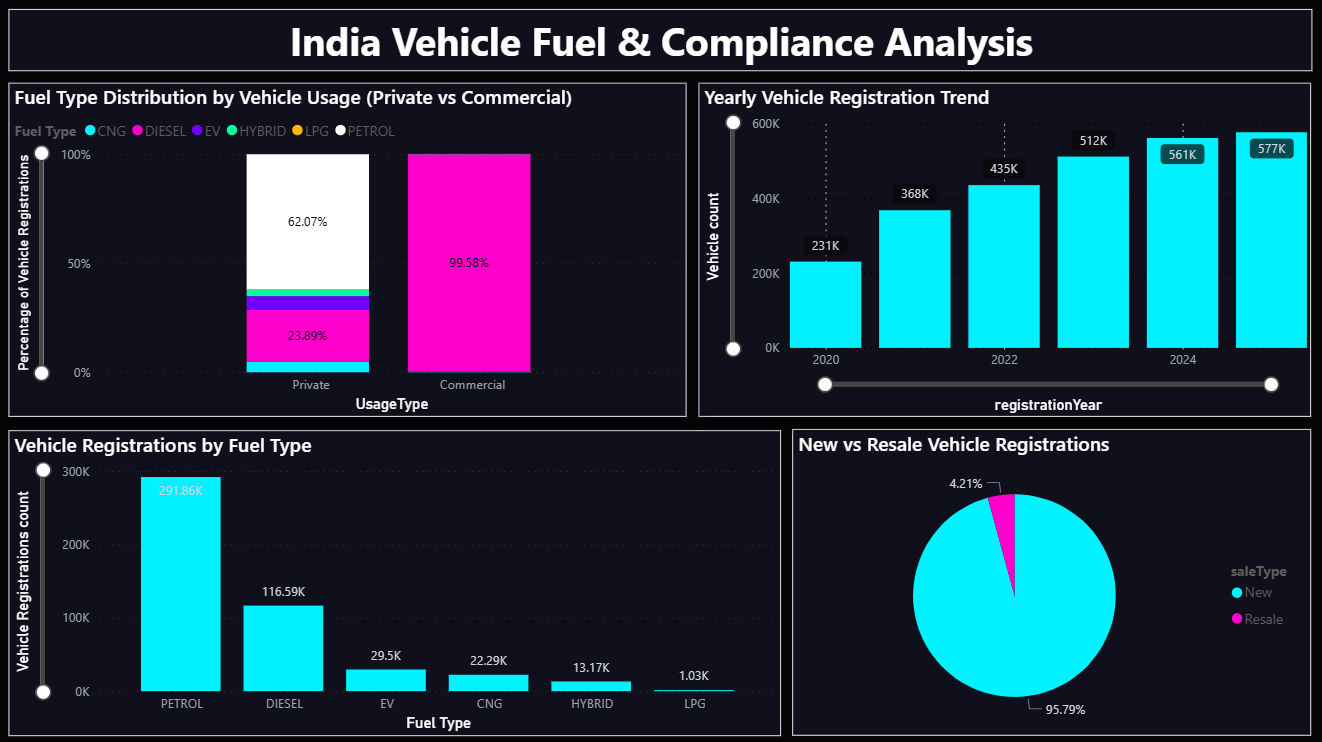

Layout of this report page (visuals, bound fields, positions):
{"tool":"powerbi","page":{"name":"India Vehicle Fuel & Compliance Analysis","canvas":[1280,720],"ordinal":3},"visuals":[{"type":"columnChart","title":"Vehicle Registrations by Fuel Type","fields":{"Y":["CountNonNull(vehicle_registrations_500k.pollutionNorm)"],"Category":["vehicle_registrations_500k.FuelClean"]},"box":[11.9,415.6,745.6,295],"z":0},{"type":"pieChart","title":"New vs Resale Vehicle Registrations","fields":{"Category":["vehicle_registrations_500k.saleType"],"Y":["Sum(vehicle_registrations_500k.vehicleCount)"],"Series":["vehicle_registrations_500k.saleType"]},"box":[768.8,415,500.6,295.6],"z":1000},{"type":"lineStackedColumnComboChart","title":"Yearly Vehicle Registration Trend","fields":{"Category":["vehicle_registrations_500k.registrationYear"],"Y":["Sum(vehicle_registrations_500k.vehicleCount)"]},"box":[677.7,80.8,591.5,322.3],"z":2000},{"type":"hundredPercentStackedColumnChart","title":"Fuel Type Distribution by Vehicle Usage (Private vs Commercial)","fields":{"Category":["vehicle_registrations_500k.UsageType"],"Y":["CountNonNull(vehicle_registrations_500k.fuelName)"],"Series":["vehicle_registrations_500k.FuelClean"]},"box":[12.3,80.8,654.6,322.3],"z":3000},{"type":"textbox","box":[12.1,9.7,1258.3,60.3],"z":4000}]}

Visuals, with their boxes in screenshot pixels (x1, y1, x2, y2), scaled from the page's 1280x720 canvas onto the 1322x742 screenshot:
"Vehicle Registrations by Fuel Type" columnChart: bbox(12, 428, 782, 732)
"New vs Resale Vehicle Registrations" pieChart: bbox(794, 428, 1311, 732)
"Yearly Vehicle Registration Trend" lineStackedColumnComboChart: bbox(700, 83, 1311, 415)
"Fuel Type Distribution by Vehicle Usage (Private vs Commercial)" hundredPercentStackedColumnChart: bbox(13, 83, 689, 415)
textbox: bbox(12, 10, 1312, 72)
